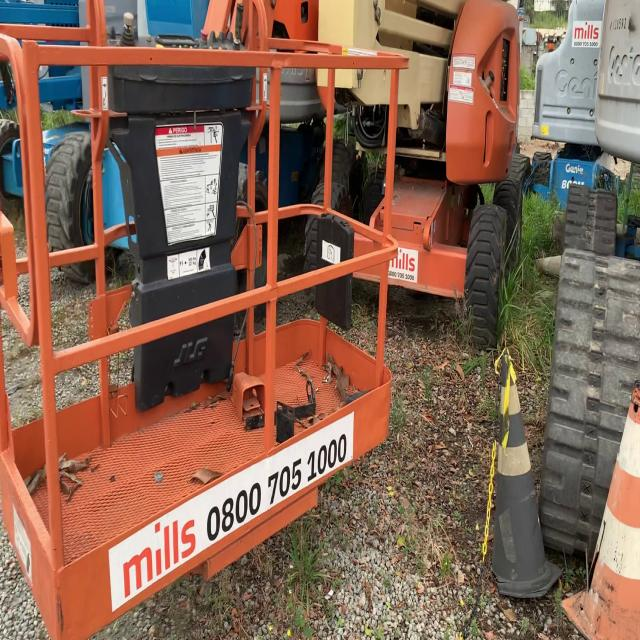Adesivo Longo: (105, 406, 356, 616)
